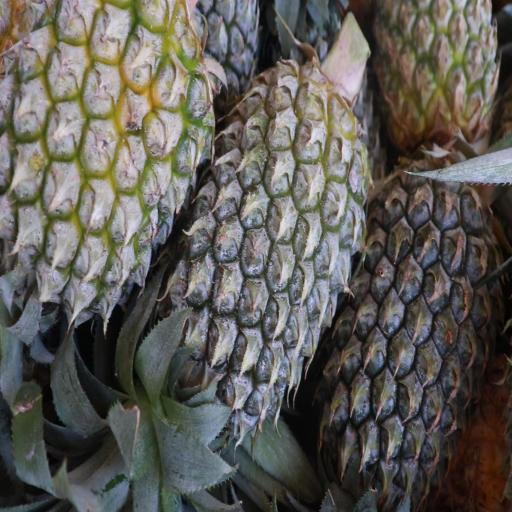------------------------------: (0, 0, 211, 303), (378, 0, 501, 159)
